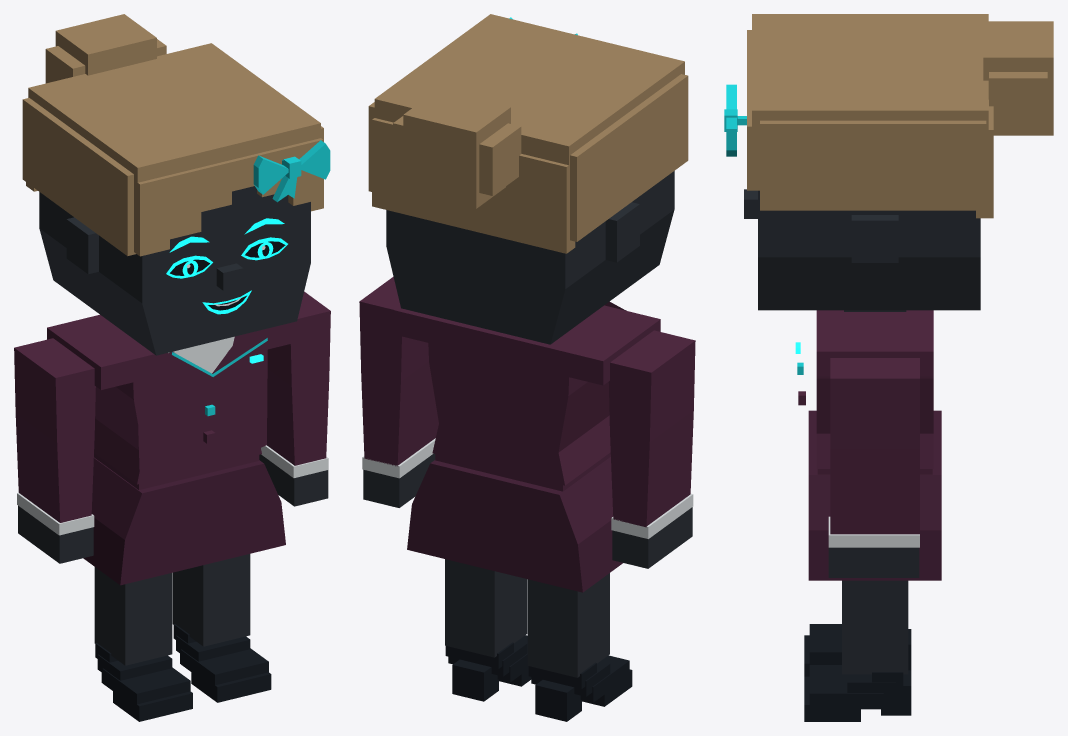
The model's file is agent_female_base_bun.glb.
3 renders of one model, left to right at view 1: azimuth 30°, elevation 25°; view 2: azimuth 150°, elevation 25°; view 3: azimuth 270°, elevation 25°, orthographic. The views are drawn at different scales.
Visible parts, largest first — view 1: char_hair_visual, char_torso_visual, char_head_visual, char_arm_negx_visual, char_leg_negx_visual, char_leg_posx_visual, char_arm_posx_visual, char_bow_visual, char_hand_negx_visual, char_hand_posx_visual, char_eye_negx_visual, char_eye_posx_visual; view 2: char_hair_visual, char_torso_visual, char_head_visual, char_arm_negx_visual, char_arm_posx_visual, char_leg_negx_visual, char_leg_posx_visual, char_hand_negx_visual, char_hand_posx_visual; view 3: char_hair_visual, char_head_visual, char_arm_posx_visual, char_torso_visual, char_leg_posx_visual, char_hand_posx_visual, char_leg_negx_visual, char_bow_visual.
Part boxes in pixels (x1,y1,x2,y2): char_hair_visual: (22,14,323,256); char_torso_visual: (47,314,297,585); char_head_visual: (39,186,310,355); char_arm_negx_visual: (14,338,95,535); char_leg_negx_visual: (94,567,192,721); char_leg_posx_visual: (172,554,271,702); char_arm_posx_visual: (261,291,330,477); char_bow_visual: (253,140,330,202); char_hand_negx_visual: (18,505,93,563); char_hand_posx_visual: (259,454,328,506); char_eye_negx_visual: (166,255,212,278); char_eye_posx_visual: (241,237,287,260); char_hair_visual: (368,14,688,253); char_torso_visual: (394,301,660,592); char_head_visual: (386,171,674,344); char_arm_negx_visual: (608,330,695,538); char_arm_posx_visual: (359,276,438,478); char_leg_negx_visual: (527,573,632,721); char_leg_posx_visual: (445,559,531,701); char_hand_negx_visual: (612,507,692,568); char_hand_posx_visual: (363,453,435,507); char_hair_visual: (747,14,1053,218); char_head_visual: (744,189,980,311); char_arm_posx_visual: (828,358,919,547); char_torso_visual: (797,310,941,580); char_leg_posx_visual: (804,580,911,721); char_hand_posx_visual: (828,547,919,577); char_leg_negx_visual: (804,624,911,676); char_bow_visual: (724,84,746,156).
Size of the model in its own units: 0.88 by 1.83 by 0.843.
